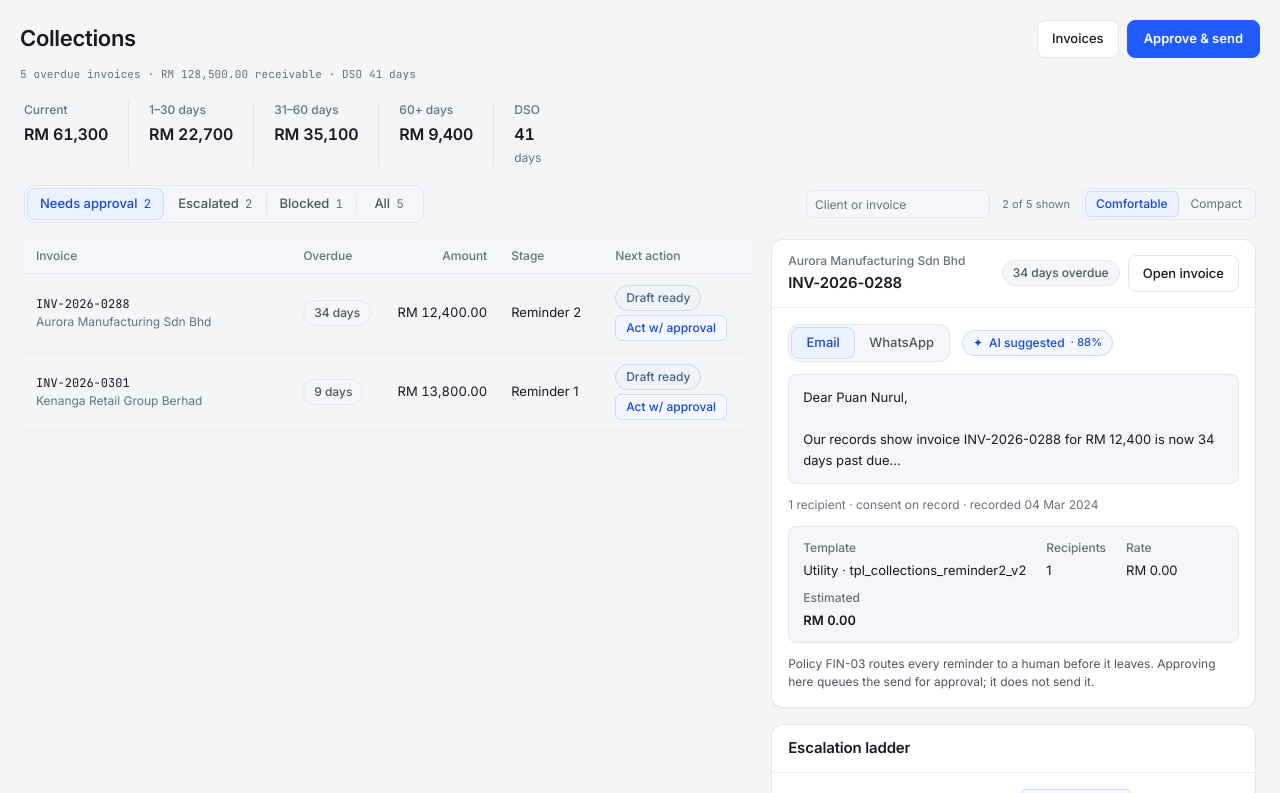
it: M13-S05 · collections queue › shows the 48-day item as escalated past the agent's autonomy
The width and height of the screenshot is (1280, 793).
Check: the heading "Collections" is shown, box x1=20 y1=22 x2=136 y2=55
Click the tab "Escalated 2". click: (215, 204)
box: x1=165 y1=188 x2=266 y2=220
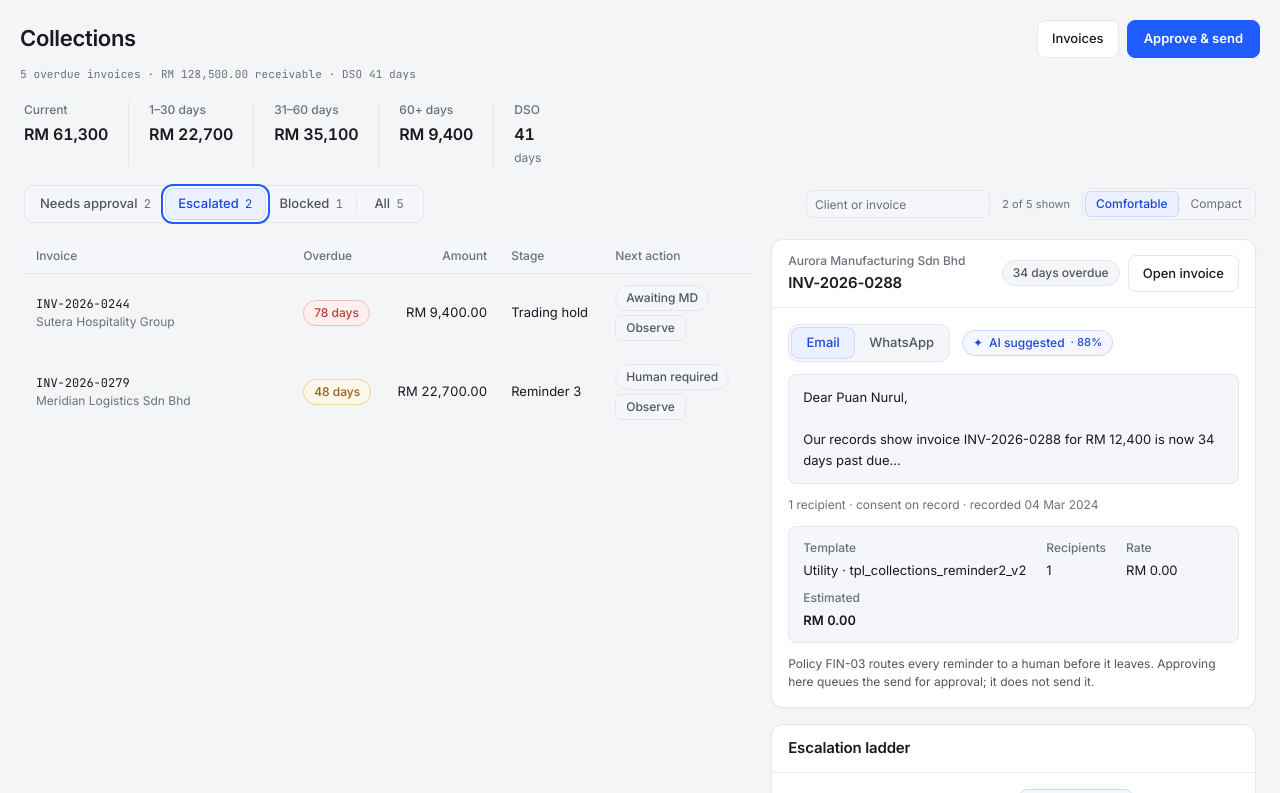
Check: the text "INV-2026-0279" is shown
Click the text "INV-2026-0279". click: (83, 383)
box: x1=36 y1=375 x2=130 y2=391
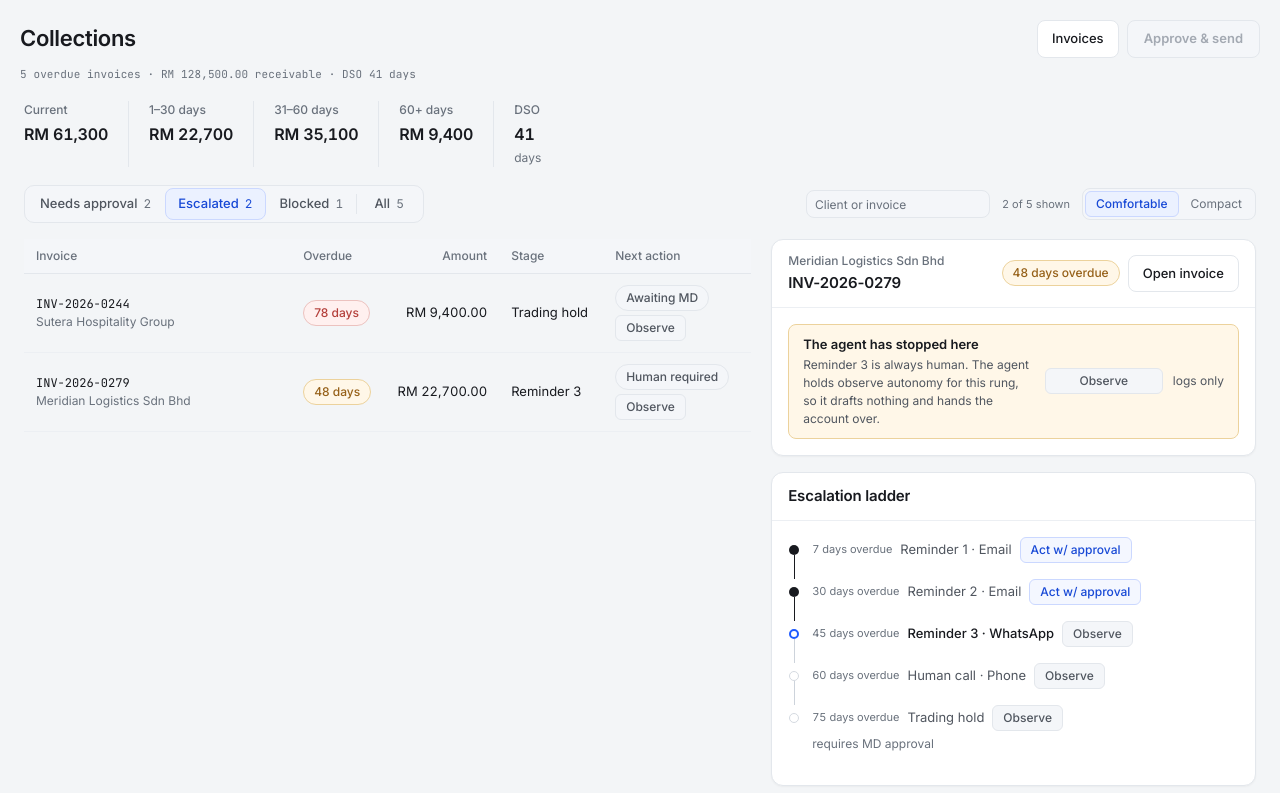
Check: the text "The agent has stopped here" is shown, box x1=803 y1=336 x2=979 y2=352
Check: the text "Reminder 3 is always human" is shown, box x1=803 y1=357 x2=1029 y2=426
